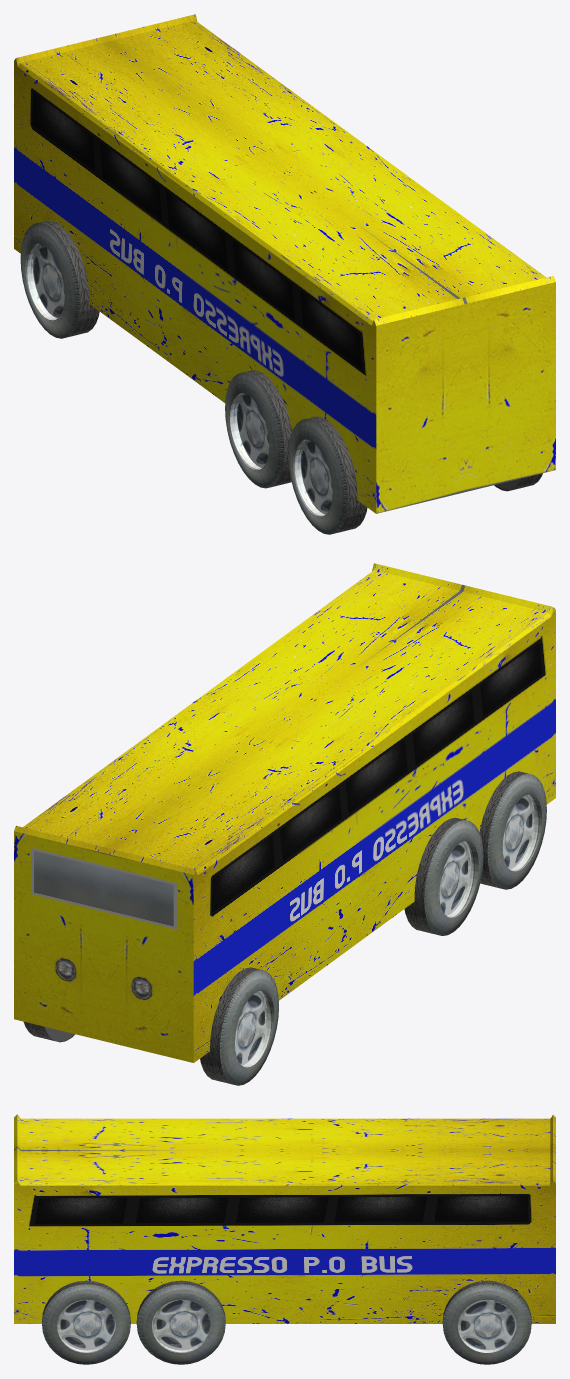
Rendered from onibus.fbx.
The picture shows the model from 3 angles, top to bottom: view 1: azimuth 30°, elevation 25°; view 2: azimuth 150°, elevation 25°; view 3: azimuth 270°, elevation 25°; orthographic projection. The views are drawn at different scales.
Parts seen in each view (by area): view 1: Cube; view 2: Cube; view 3: Cube.
Part boxes in pixels (<box>): Cube: <box>14,14,555,534</box>; Cube: <box>14,563,555,1085</box>; Cube: <box>14,1114,555,1364</box>.
Bounding box in the file's own units: 11.33 × 12.52 × 33.91.
1 material, 1 textured.
